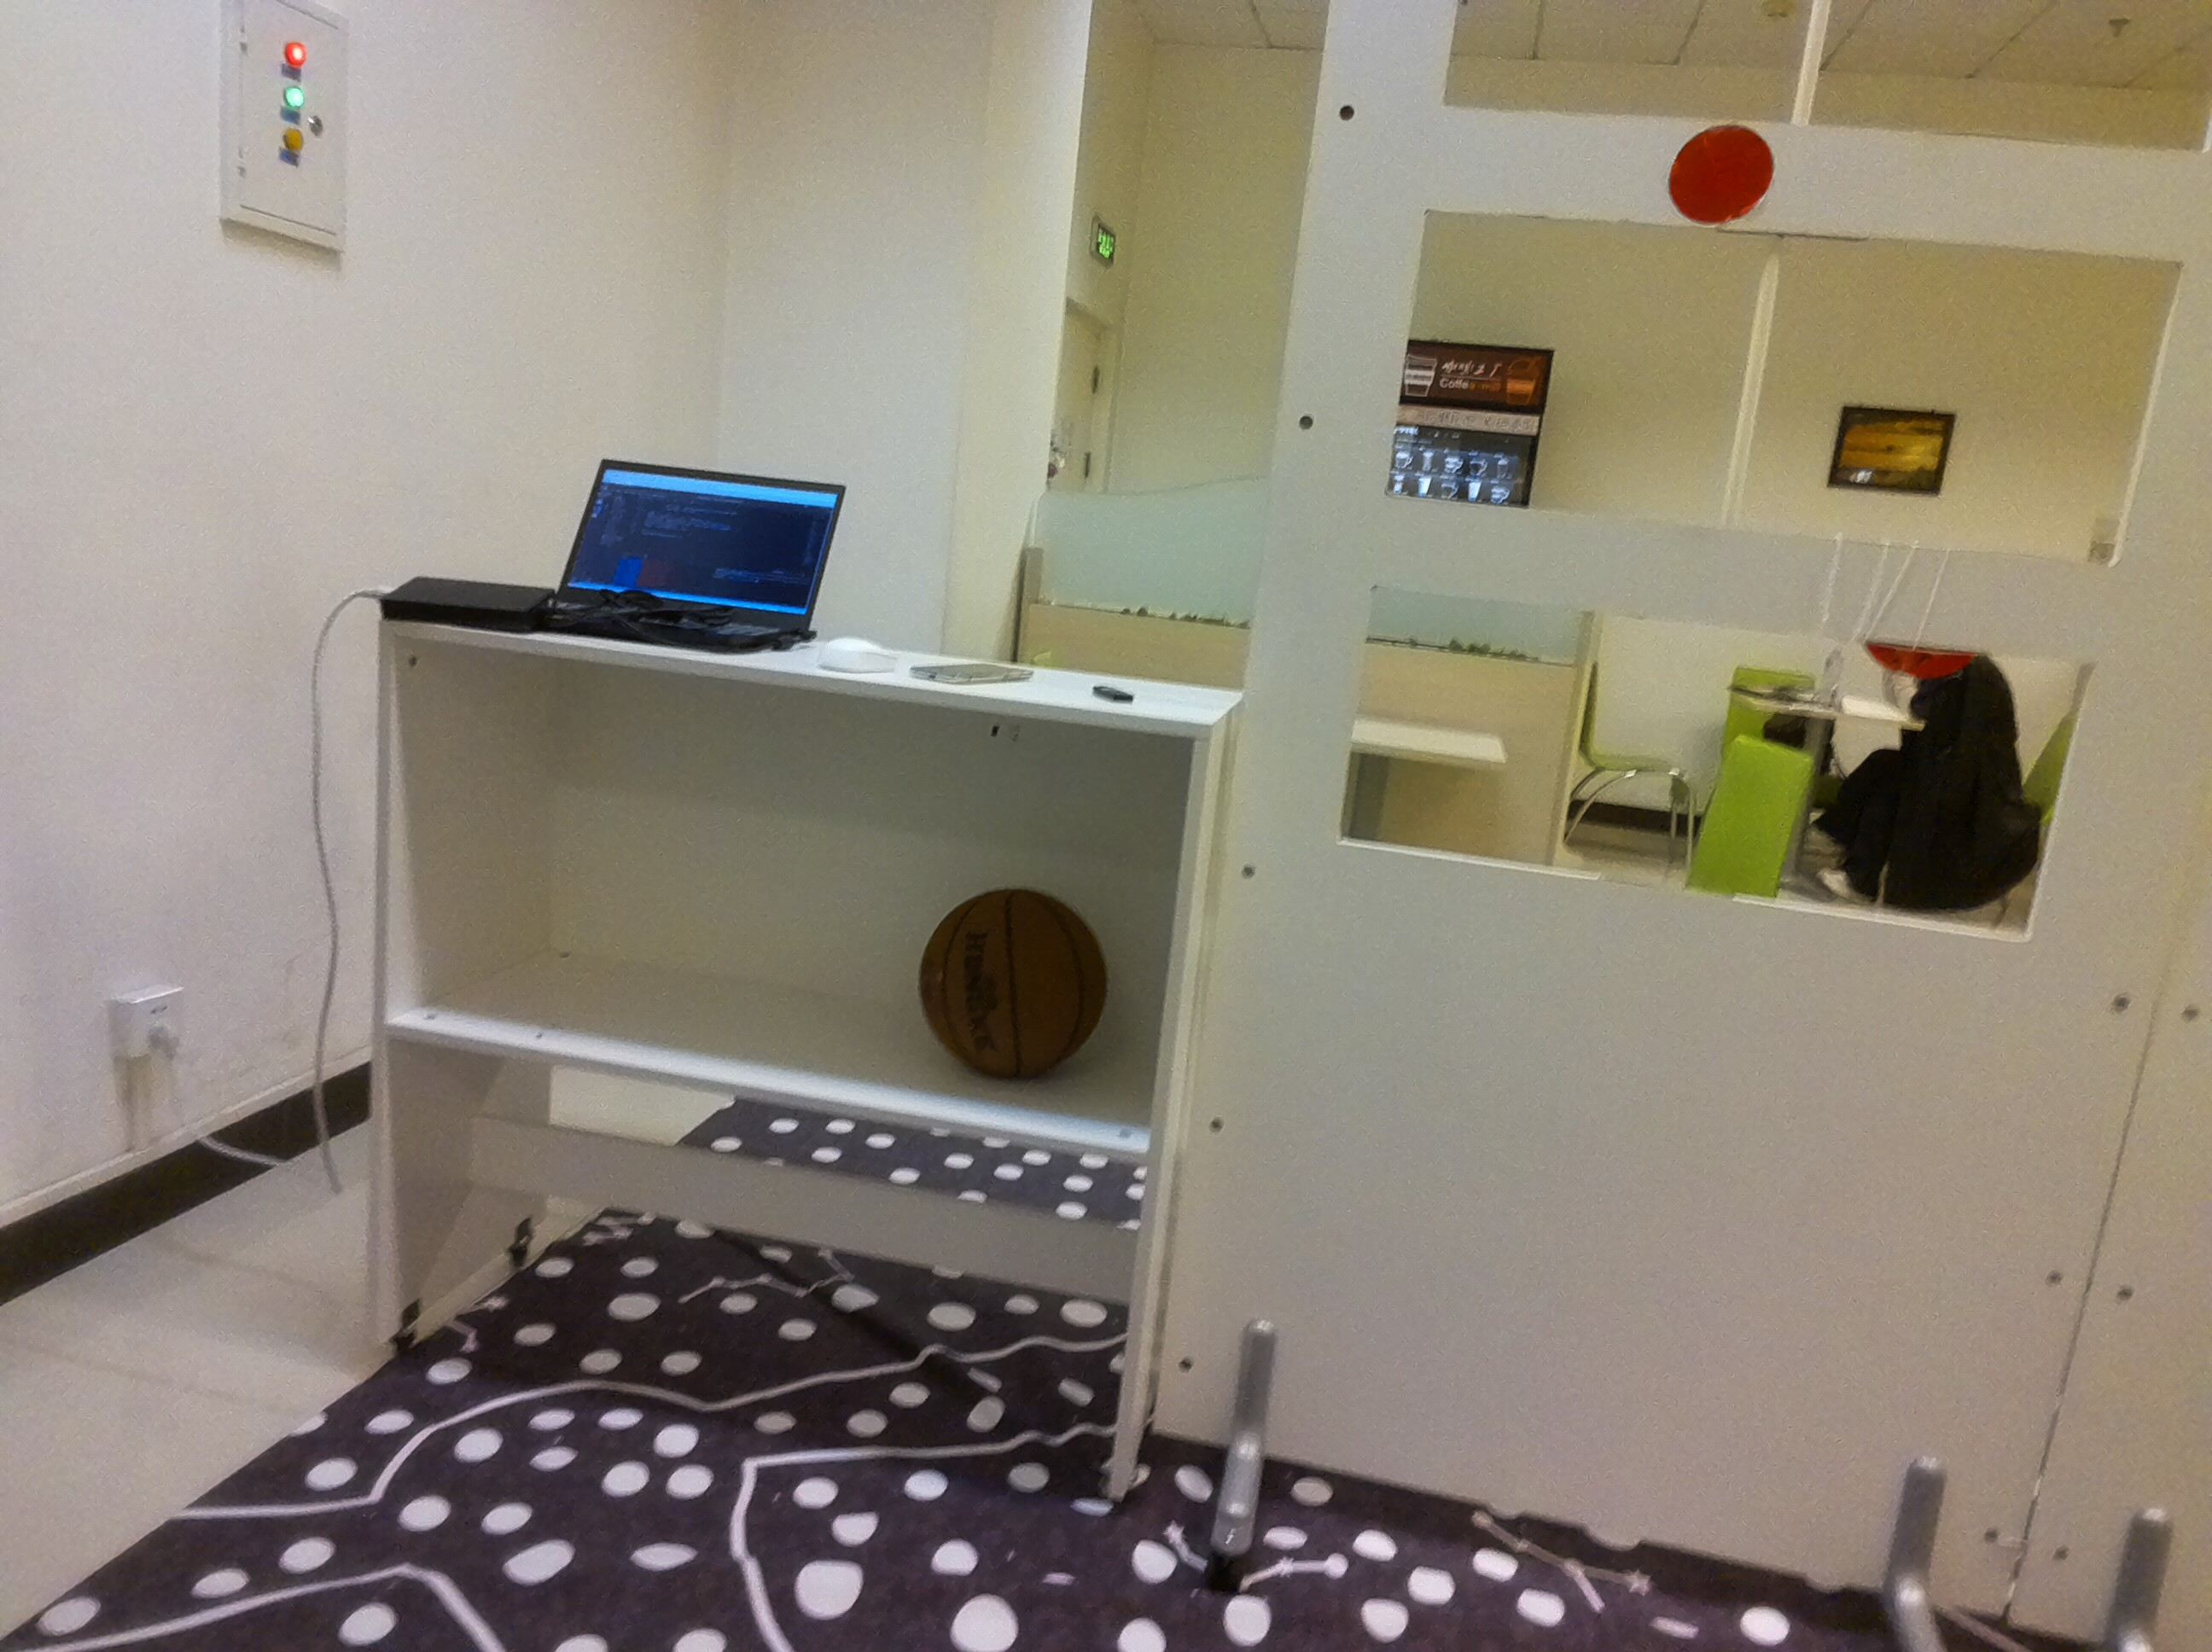basketball: (907, 866, 1122, 1088)
